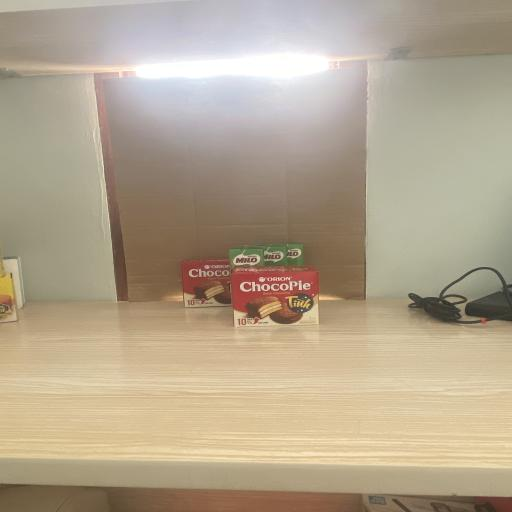chocopie: (232, 266, 320, 326), (180, 258, 232, 308)
milo: (228, 247, 262, 268), (263, 245, 287, 266), (285, 244, 304, 265)
